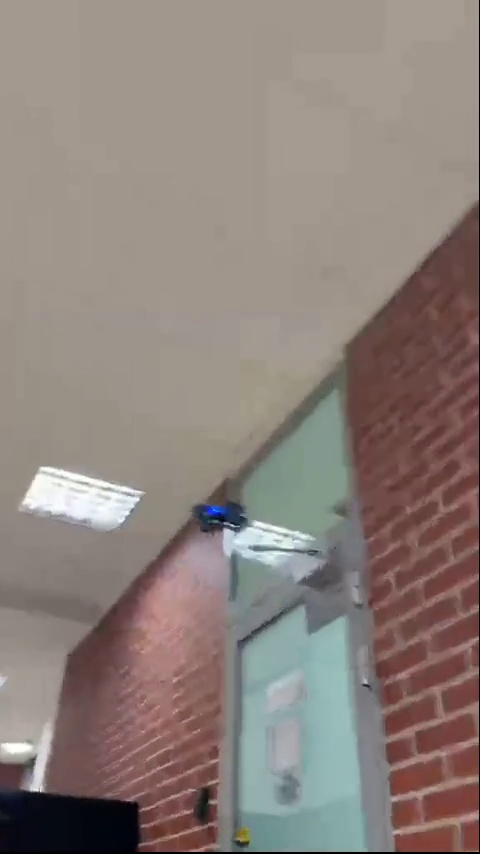drone: (194, 503, 252, 532)
